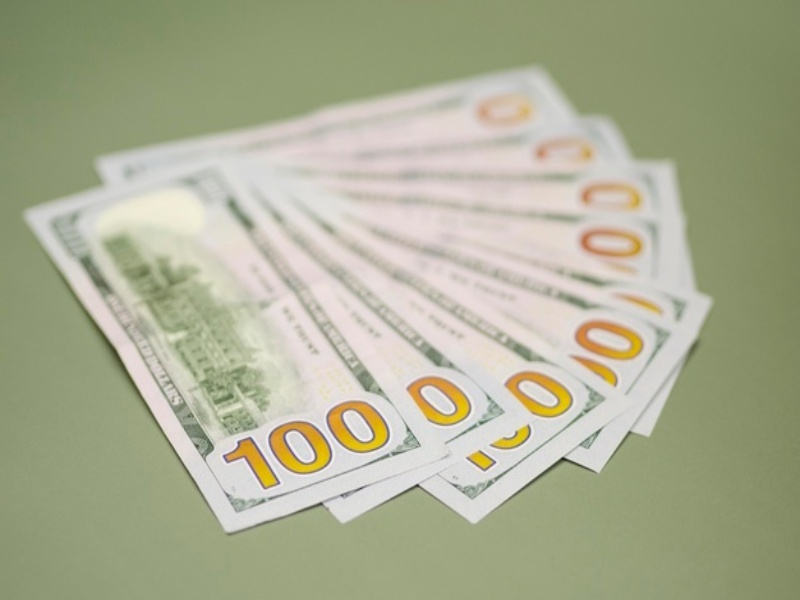cash: (21, 65, 713, 532)
